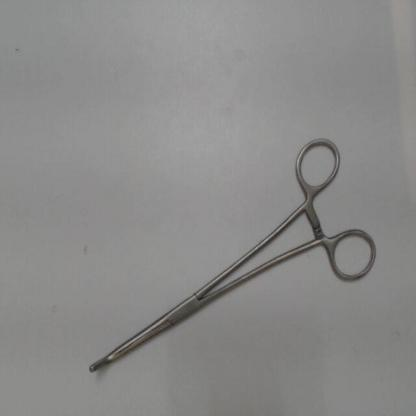Lahey Forceps: (81, 125, 382, 382)
